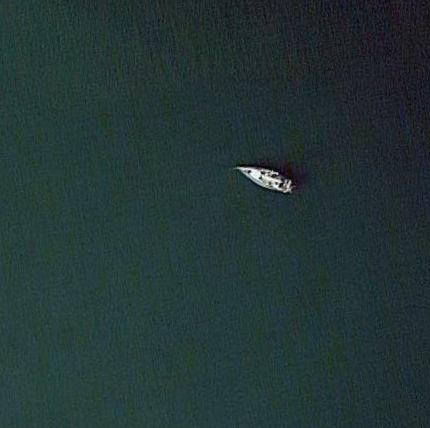boat: (229, 163, 296, 197)
